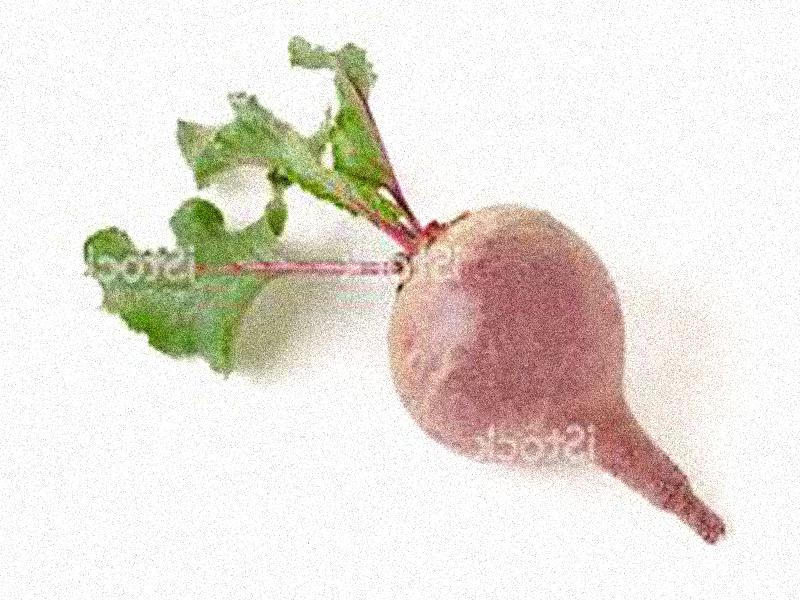Beet: (80, 36, 723, 541)
